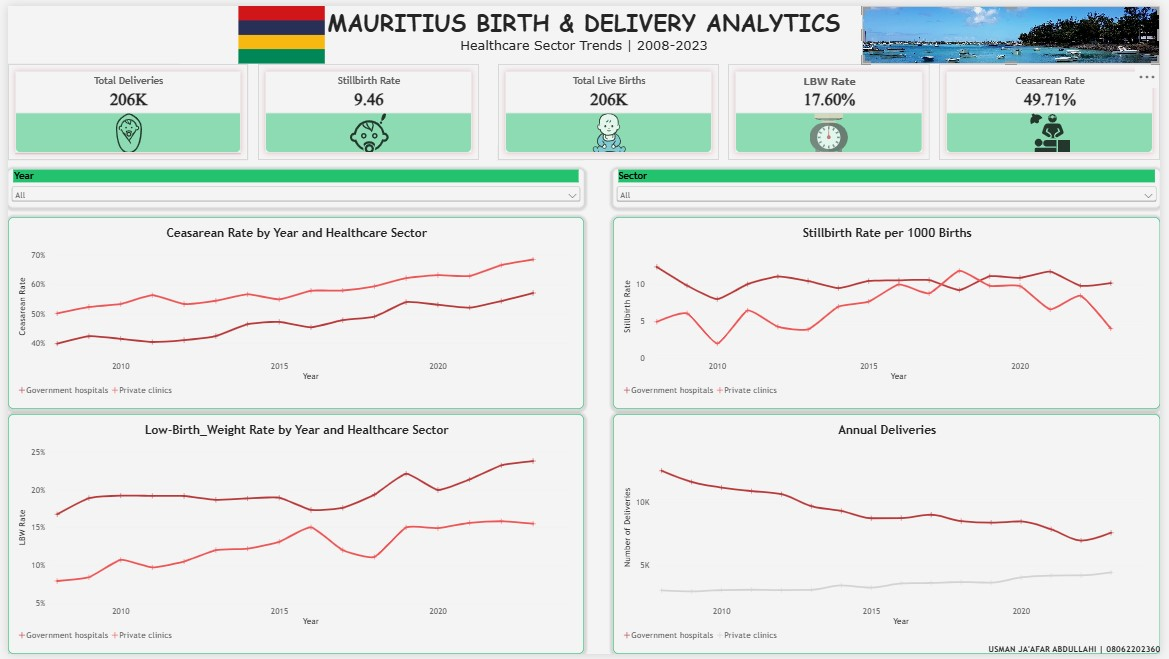

The dashboard page shown, as its layout file describes it:
{"tool":"powerbi","page":{"name":"Page 1","canvas":[1920,1080],"ordinal":0},"visuals":[{"type":"cardVisual","fields":{"Data":["mauritius_birth_statistics_analysis.Total Deliveries"]},"box":[0,96,400,160],"z":0},{"type":"cardVisual","fields":{"Data":["mauritius_birth_statistics_analysis.Total Live Births"]},"box":[816,96,368,160],"z":1000},{"type":"cardVisual","fields":{"Data":["mauritius_birth_statistics_analysis.Ceasarean Rate"]},"box":[1552,96,368,160],"z":2000},{"type":"cardVisual","fields":{"Data":["mauritius_birth_statistics_analysis.LBW Rate"]},"box":[1200,96,336,160],"z":3000},{"type":"cardVisual","fields":{"Data":["mauritius_birth_statistics_analysis.Stillbirth Rate"]},"box":[416,96,368,160],"z":4000},{"type":"slicer","fields":{"Values":["mauritius_birth_statistics_analysis.Year"]},"box":[0,272,960,64],"z":5000},{"type":"lineChart","title":"Annual Deliveries","fields":{"Category":["mauritius_birth_statistics_analysis.Year"],"Series":["mauritius_birth_statistics_analysis.Sector"],"Y":["Sum(mauritius_birth_statistics_analysis.Deliveries)"]},"box":[1008,680,912,400],"z":6000},{"type":"lineChart","title":"Ceasarean Rate by Year and Healthcare Sector","fields":{"Category":["mauritius_birth_statistics_analysis.Year"],"Series":["mauritius_birth_statistics_analysis.Sector"],"Y":["mauritius_birth_statistics_analysis.Ceasarean Rate"]},"box":[0,352,960,320],"z":7000},{"type":"lineChart","title":"Low-Birth_Weight Rate by Year and Healthcare Sector","fields":{"Category":["mauritius_birth_statistics_analysis.Year"],"Series":["mauritius_birth_statistics_analysis.Sector"],"Y":["mauritius_birth_statistics_analysis.LBW Rate"]},"box":[0,680,960,400],"z":8000},{"type":"lineChart","title":"Stillbirth Rate per 1000 Births ","fields":{"Category":["mauritius_birth_statistics_analysis.Year"],"Series":["mauritius_birth_statistics_analysis.Sector"],"Y":["mauritius_birth_statistics_analysis.Stillbirth Rate"]},"box":[1008,352,912,320],"z":9000},{"type":"slicer","fields":{"Values":["mauritius_birth_statistics_analysis.Sector"]},"box":[1008,272,912,64],"z":10000},{"type":"textbox","box":[0,0,1920,80],"z":11000},{"type":"image","box":[0,0,912,96],"z":12000},{"type":"textbox","box":[976,1064,944,16],"z":13000}]}

Visuals, with their boxes in screenshot pixels (x1, y1, x2, y2), scaled from the page's 1920x1080 canvas onto the 1169x659 screenshot:
cardVisual - mauritius_birth_statistics_analysis.Total Deliveries: BBox(0, 59, 244, 156)
cardVisual - mauritius_birth_statistics_analysis.Total Live Births: BBox(497, 59, 721, 156)
cardVisual - mauritius_birth_statistics_analysis.Ceasarean Rate: BBox(945, 59, 1168, 156)
cardVisual - mauritius_birth_statistics_analysis.LBW Rate: BBox(731, 59, 935, 156)
cardVisual - mauritius_birth_statistics_analysis.Stillbirth Rate: BBox(253, 59, 477, 156)
slicer - mauritius_birth_statistics_analysis.Year: BBox(0, 166, 584, 205)
"Annual Deliveries" lineChart: BBox(614, 415, 1168, 658)
"Ceasarean Rate by Year and Healthcare Sector" lineChart: BBox(0, 215, 584, 410)
"Low-Birth_Weight Rate by Year and Healthcare Sector" lineChart: BBox(0, 415, 584, 658)
"Stillbirth Rate per 1000 Births " lineChart: BBox(614, 215, 1168, 410)
slicer - mauritius_birth_statistics_analysis.Sector: BBox(614, 166, 1168, 205)
textbox: BBox(0, 0, 1168, 49)
image: BBox(0, 0, 555, 59)
textbox: BBox(594, 649, 1168, 658)
